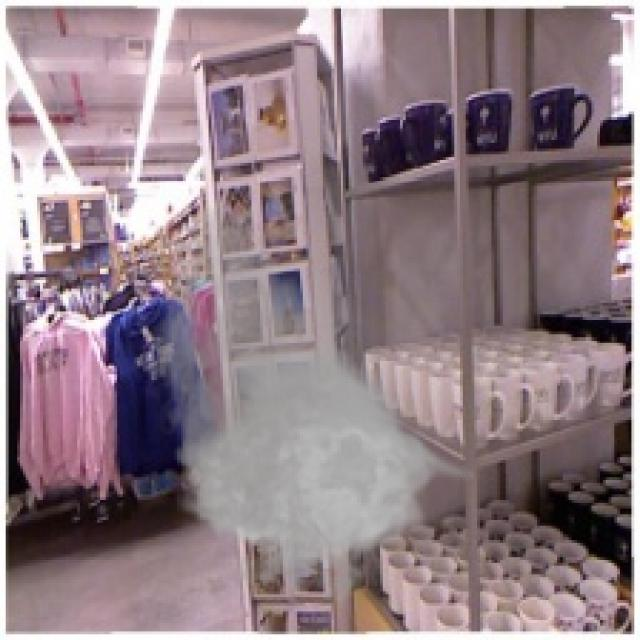smoke: (140, 197, 483, 617)
